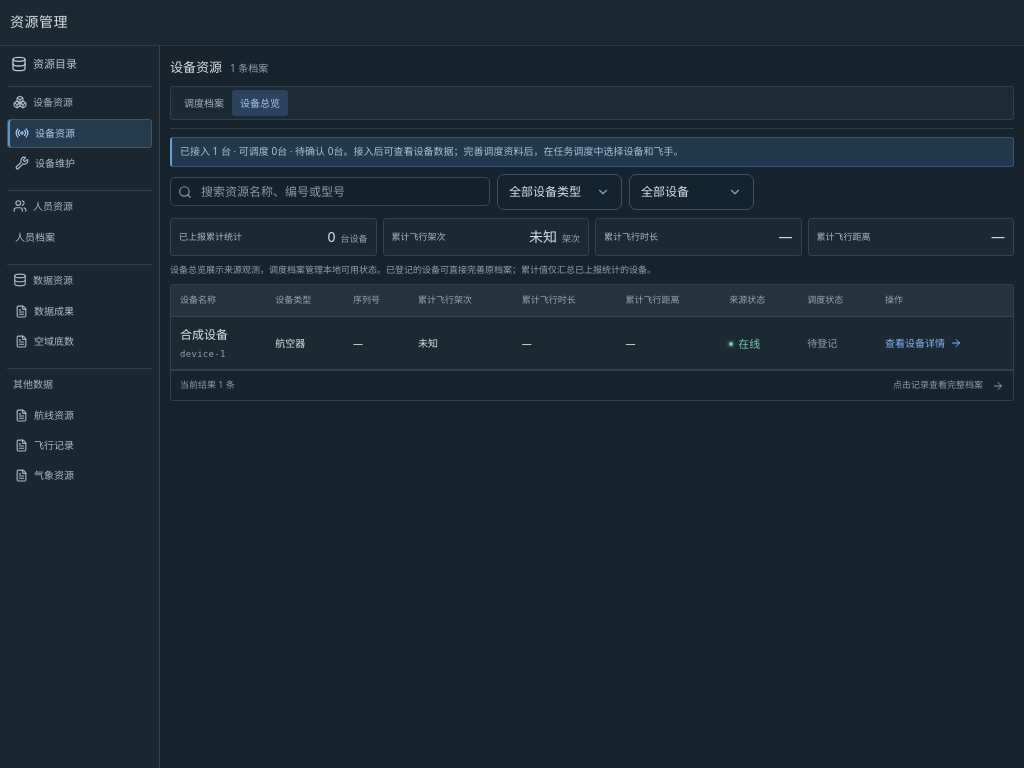
Test: 资源目录按需请求 › 维护登记仍能读取设备选择和完整组织目录
Click the button "人员档案" at [80, 237], box [7,223,152,252]
Wait 11020 ms
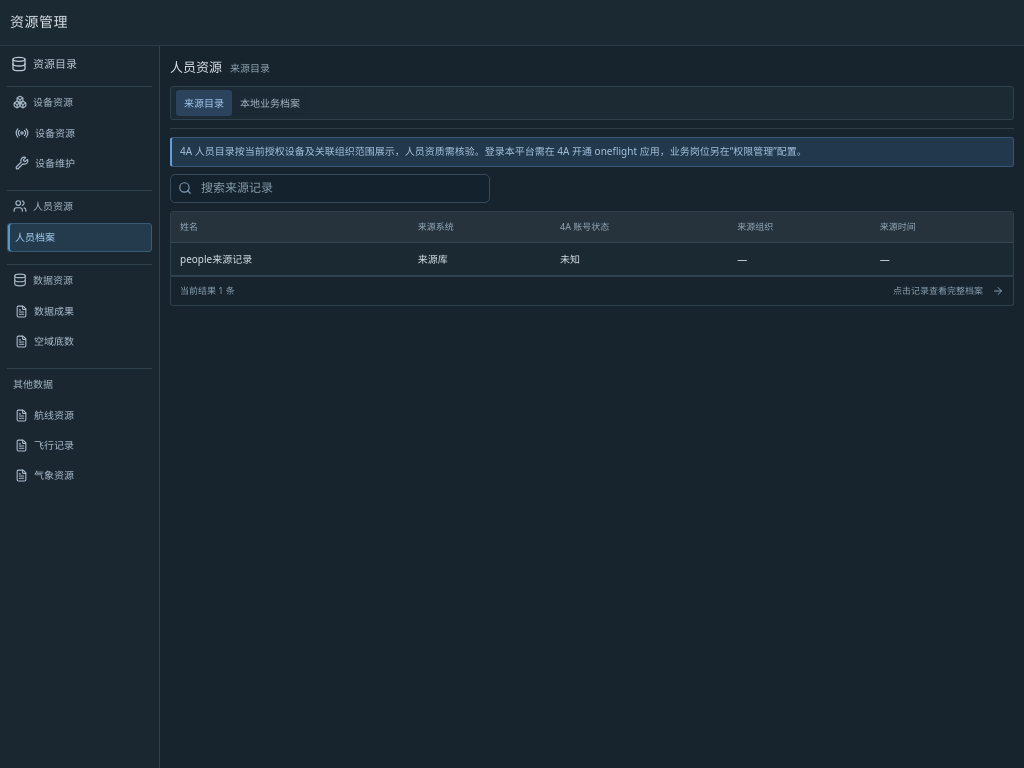
Click the button "设备维护" at [80, 163], box [7,149,152,178]
Wait 20 ms
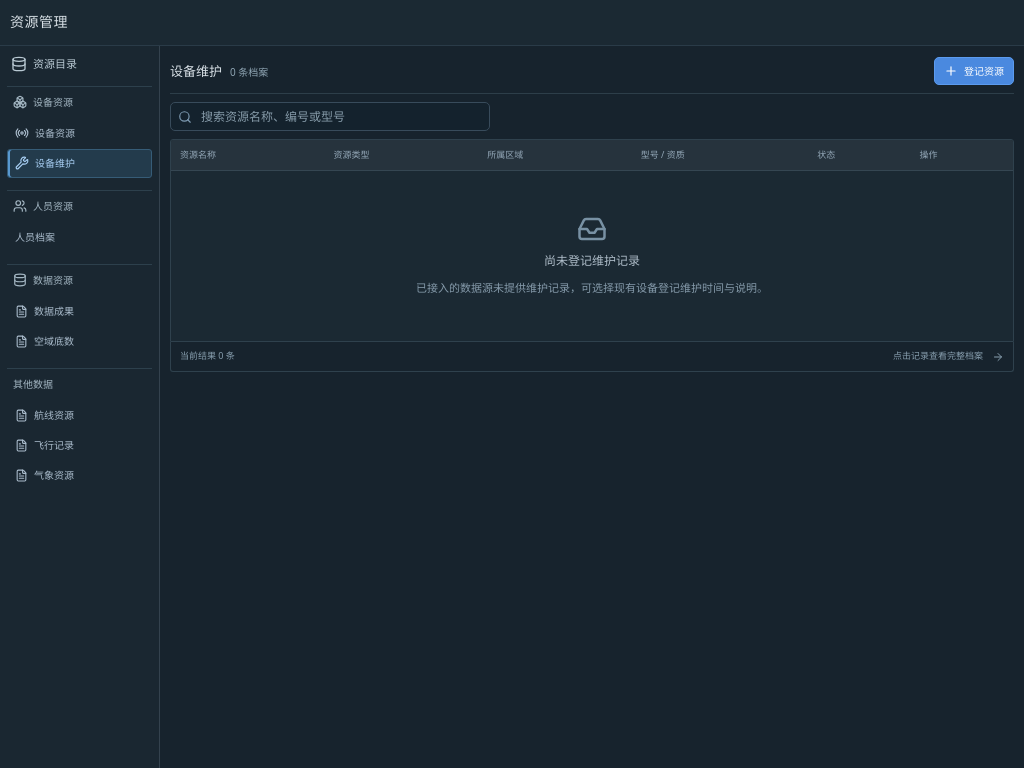
Click the button "登记资源" at [974, 71], box [934,57,1014,85]
Wait 20 ms
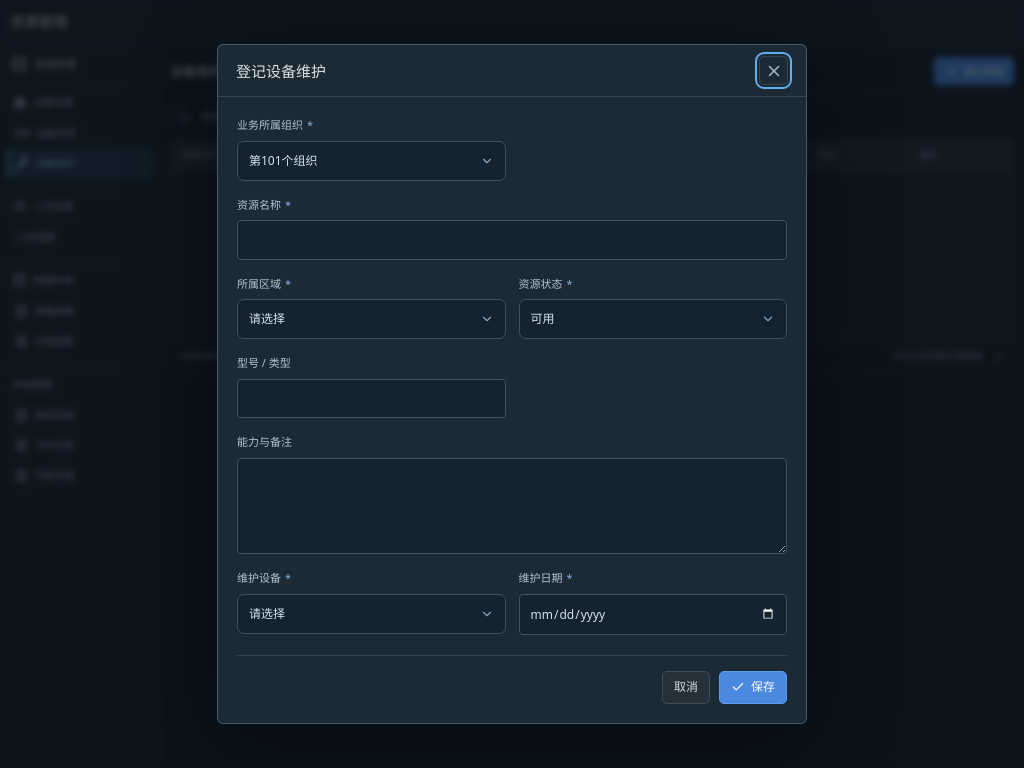
Click the dropdown named "维护设备" at [267, 613], box [237,594,506,634]
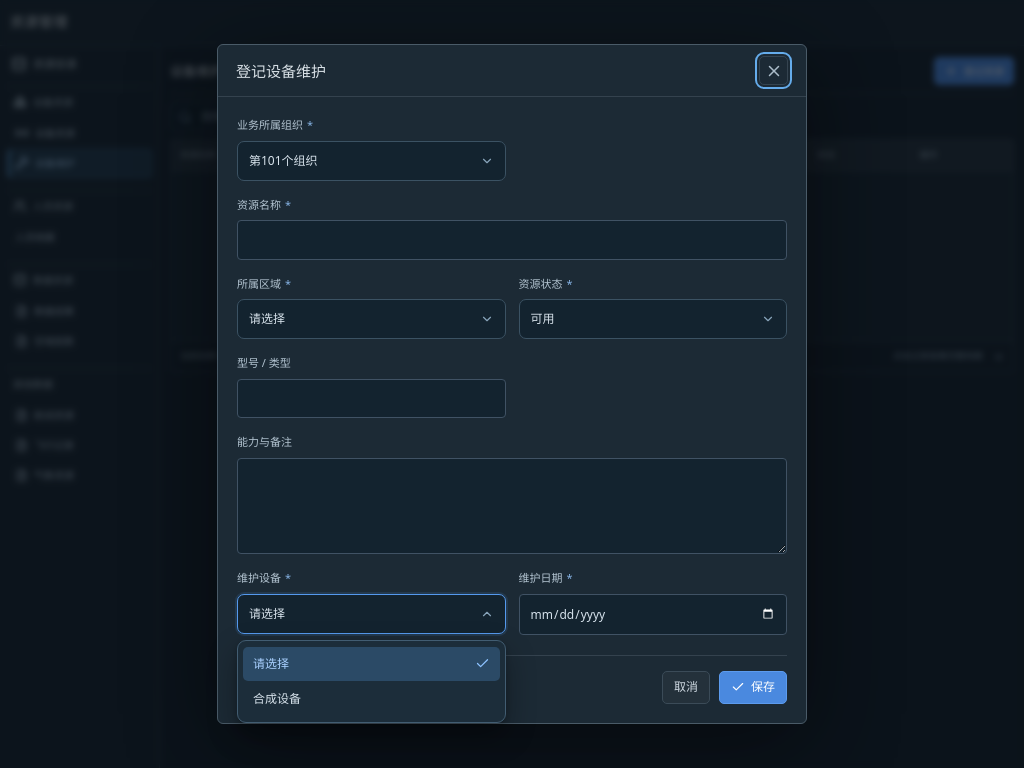
Now the option "合成设备" is shown, box [253,690,301,707]
